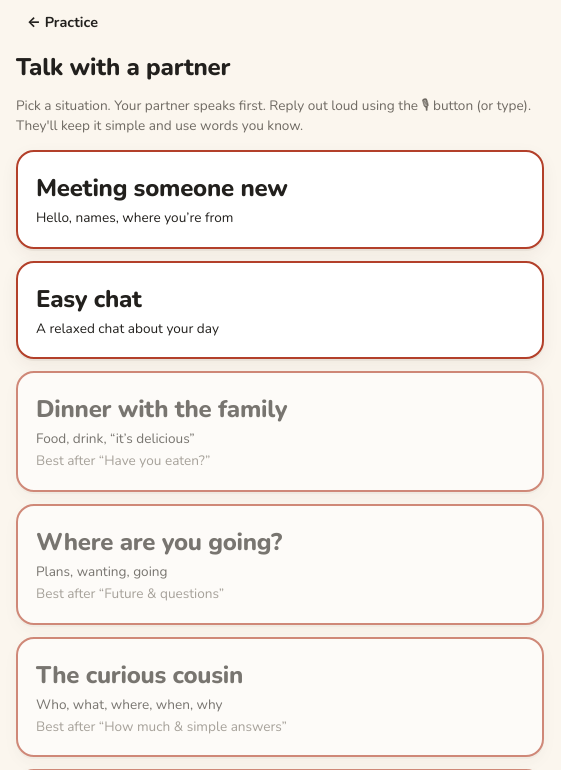
Test case: Conversation › opens a scenario and shows the partner’s first line
This screenshot has width=561, height=770.
Click the text "Meeting someone new". click: (162, 188)
box: [36, 170, 288, 206]
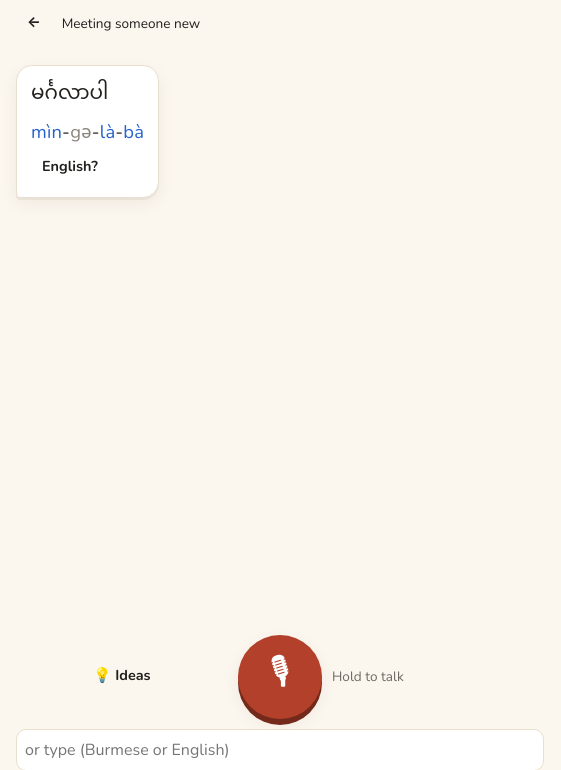
Now the text "မင်္ဂလာပါ" is shown, box [31, 73, 108, 116]
